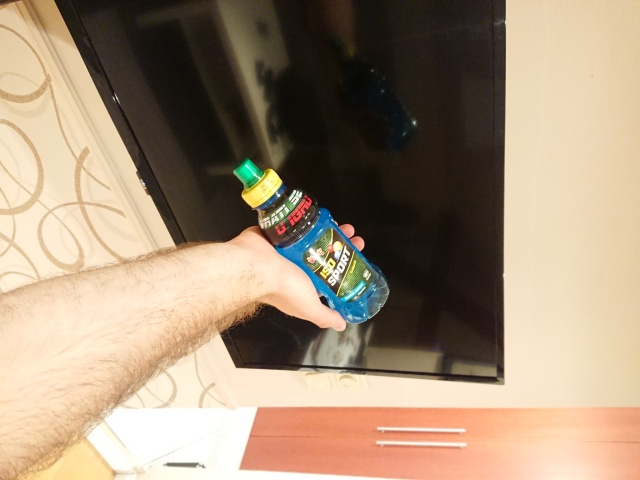Vindi Iso Sport Forest Strawberries 500mL: (230, 155, 391, 326)
